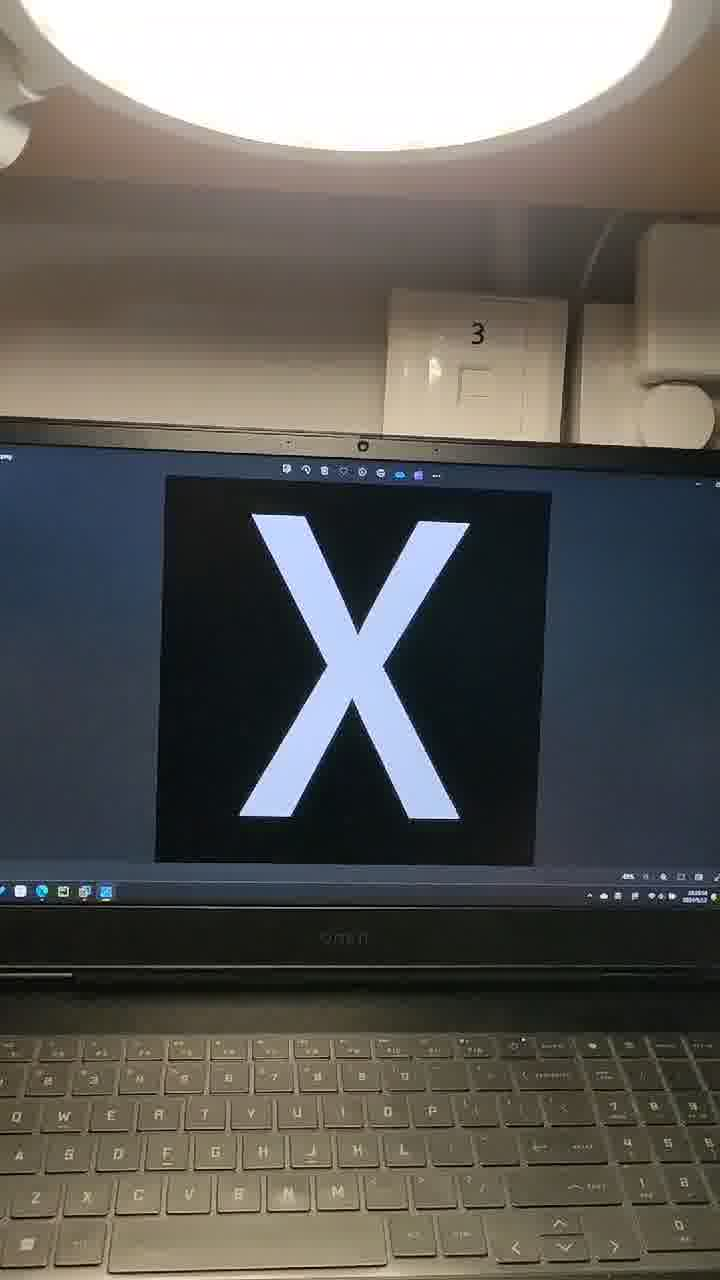X: (197, 467, 499, 899)
